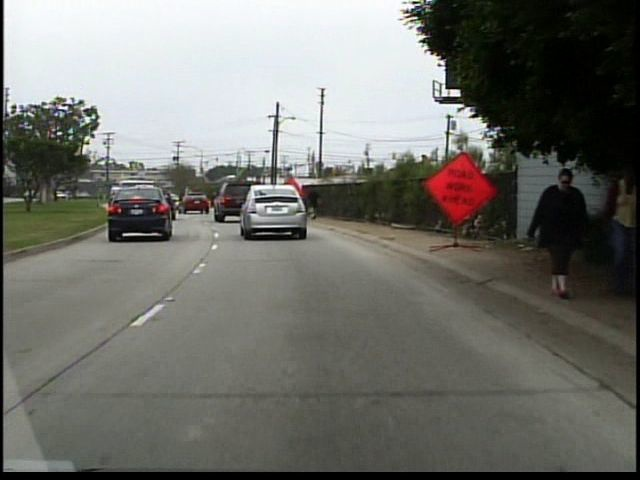person: (518, 159, 591, 306), (302, 179, 324, 219)
